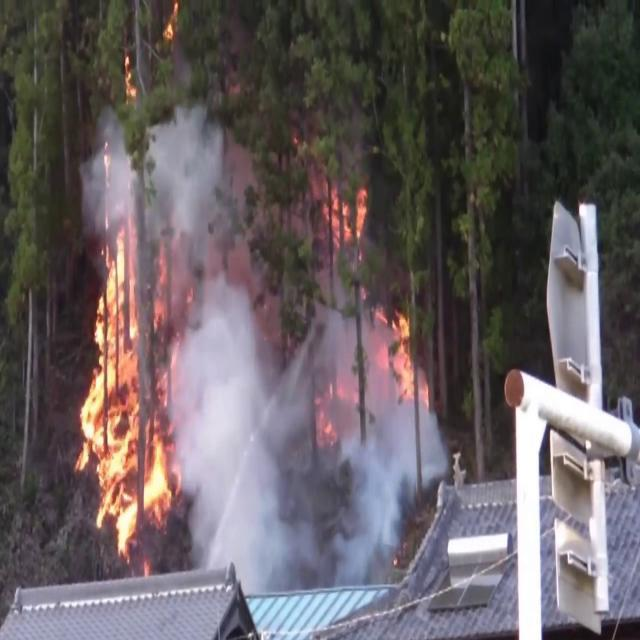Fire: (70, 223, 174, 552), (386, 297, 434, 412), (322, 174, 372, 265)
Smoke: (130, 79, 304, 606), (308, 286, 412, 569)
